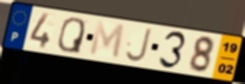3: (155, 30, 189, 71)
4: (29, 11, 53, 50)
8: (188, 35, 217, 74)
J: (124, 27, 154, 64)
M: (88, 20, 127, 62)
Q: (56, 16, 87, 55)
